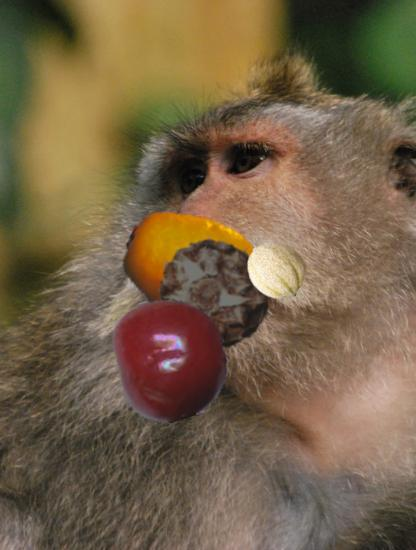Cantaloupe: (245, 239, 308, 302)
Cherry: (109, 296, 233, 420)
Kumquats: (122, 198, 266, 342)
Pineapple: (155, 235, 273, 353)
